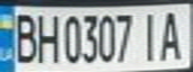0: (97, 10, 118, 63), (60, 11, 81, 64)
3: (78, 11, 100, 64)
7: (115, 10, 136, 63)
A: (154, 7, 187, 62)
B: (9, 9, 39, 64)
H: (33, 9, 60, 64)
I: (136, 8, 163, 62)
